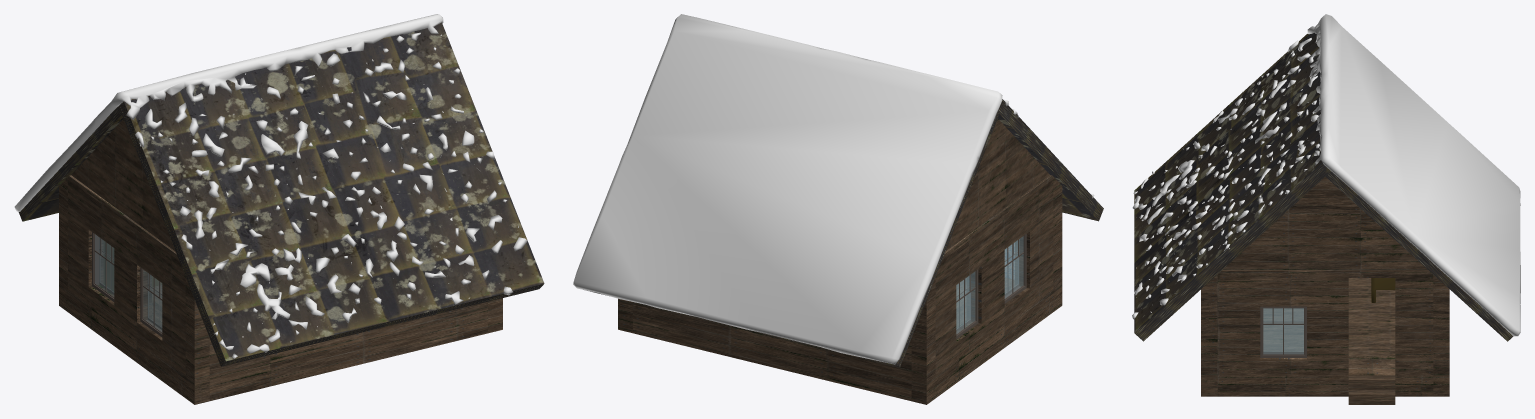
Rendered from house.glb.
3 renders of one model, left to right at view 1: azimuth 30°, elevation 25°; view 2: azimuth 150°, elevation 25°; view 3: azimuth 270°, elevation 25°, orthographic. The views are drawn at different scales.
Visible parts, largest first — view 1: roof, first-walls-and-floor, SnowBall.001, second-floor-walls2, mirror.001, mirror.003; view 2: SnowBall.001, first-walls-and-floor, second-floor-walls2, roof, mirror.003, mirror.001; view 3: SnowBall.001, first-walls-and-floor, roof, second-floor-walls1, mirror.002, Cube, bed.
Part boxes in pixels (<box>): roof: <box>18,22,544,366</box>; first-walls-and-floor: <box>59,175,502,404</box>; SnowBall.001: <box>14,14,527,358</box>; second-floor-walls2: <box>71,119,175,251</box>; mirror.001: <box>140,267,162,337</box>; mirror.003: <box>92,232,114,301</box>; SnowBall.001: <box>573,14,1094,364</box>; first-walls-and-floor: <box>618,175,1062,404</box>; second-floor-walls2: <box>946,119,1049,250</box>; roof: <box>587,99,1103,366</box>; mirror.003: <box>956,269,978,338</box>; mirror.001: <box>1004,234,1026,303</box>; SnowBall.001: <box>1132,14,1520,336</box>; first-walls-and-floor: <box>1201,270,1449,396</box>; roof: <box>1134,32,1513,341</box>; second-floor-walls1: <box>1223,177,1427,269</box>; mirror.002: <box>1260,306,1306,357</box>; Cube: <box>1348,375,1395,404</box>; bed: <box>1371,278,1395,302</box>.
Bounding box in the file's own units: 7.64 × 5.76 × 8.34.
Materials: 8 (3 with a texture image).
